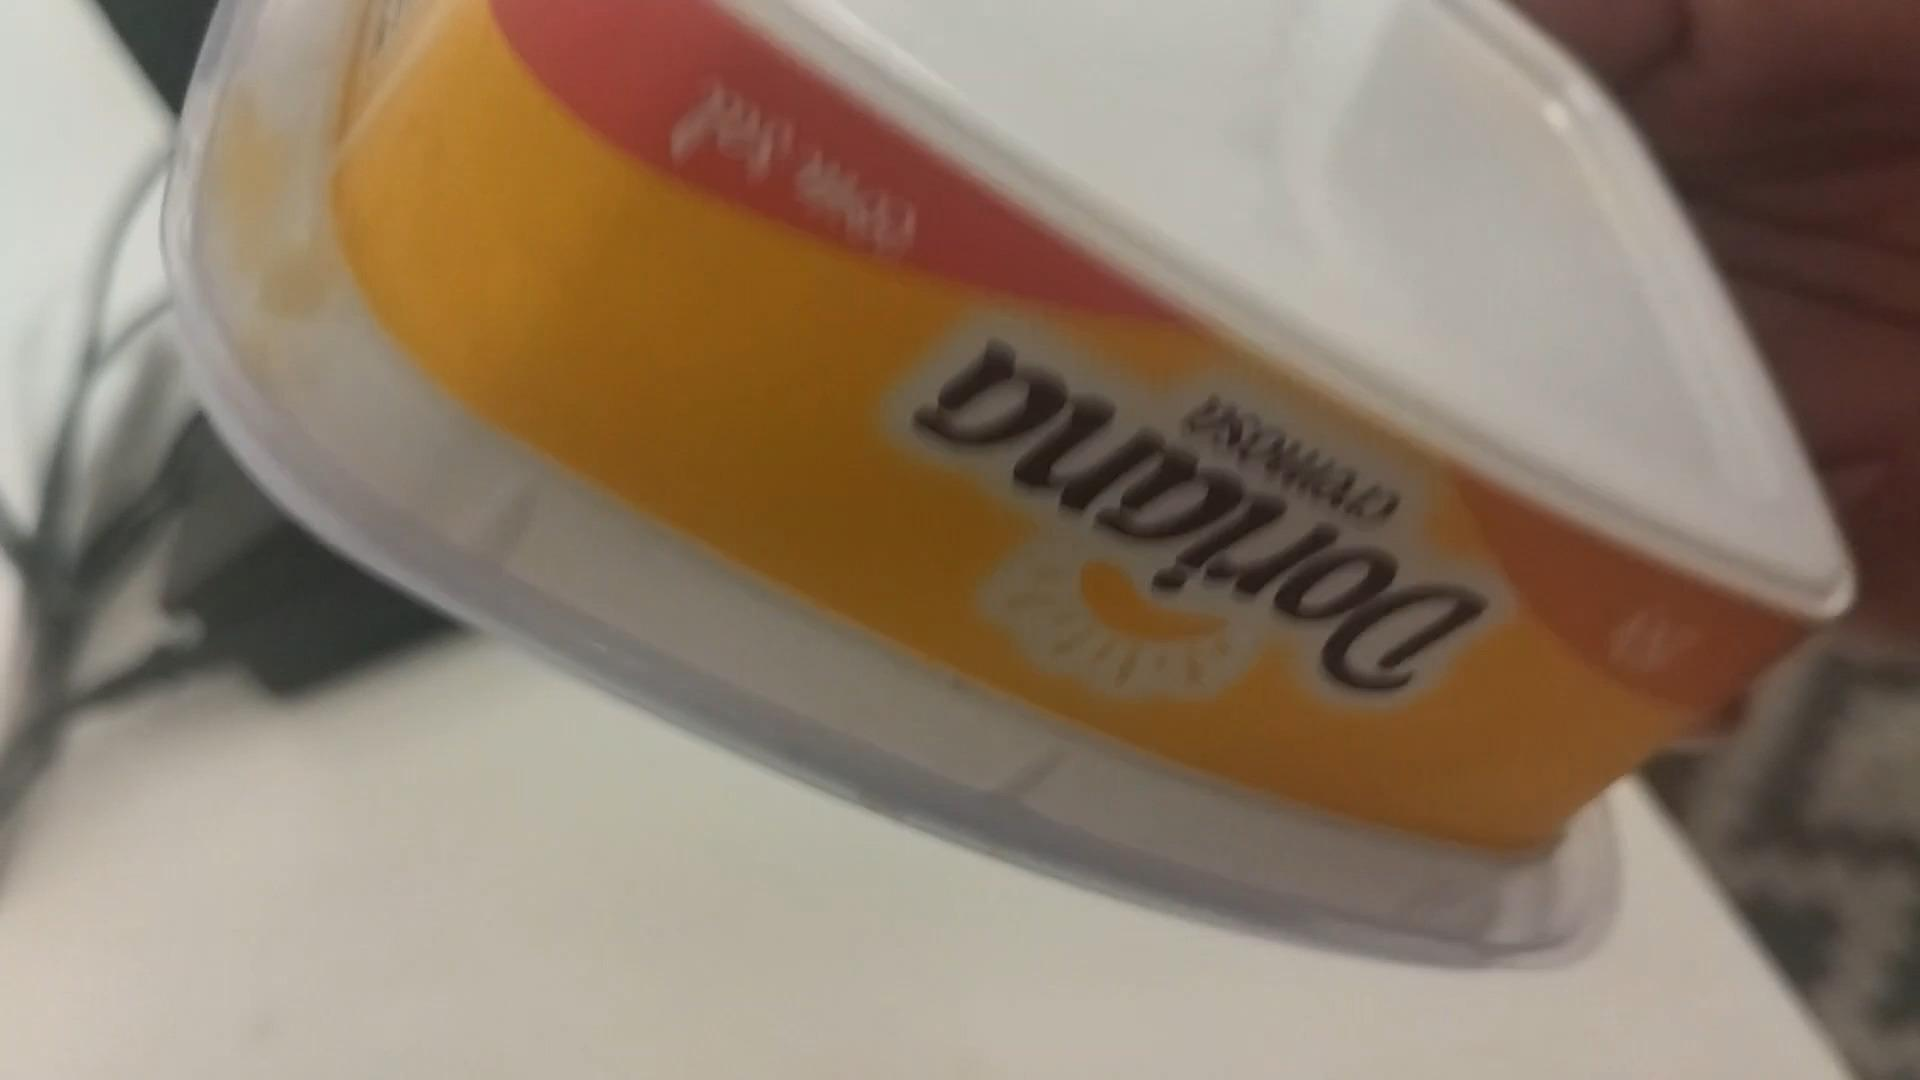butter: (135, 0, 1859, 967)
